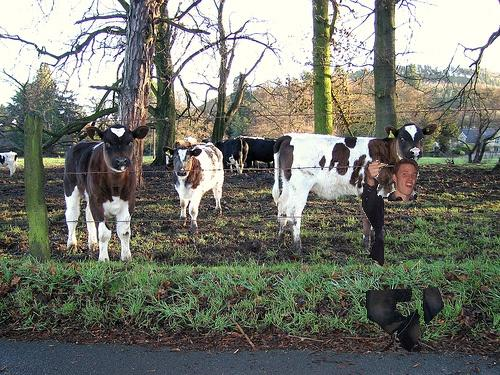tampered: (362, 159, 444, 352)
